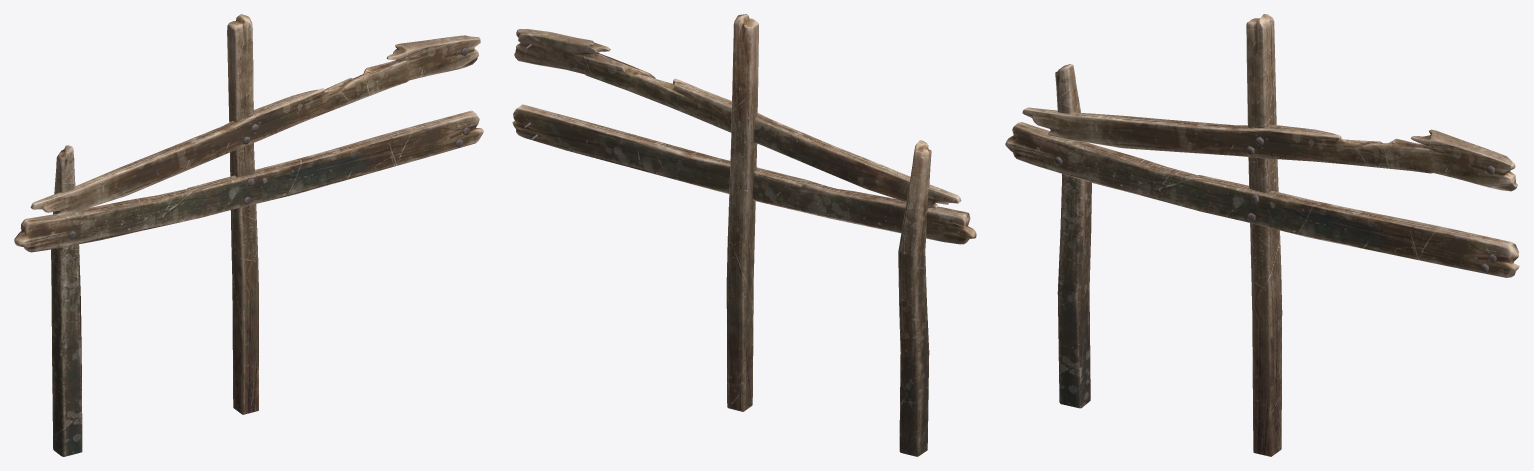
3 renders of one model, left to right at view 1: azimuth 30°, elevation 25°; view 2: azimuth 150°, elevation 25°; view 3: azimuth 330°, elevation 25°, orthographic. The views are drawn at different scales.
Visible parts, largest first — view 1: SM_Wooden_Fence_01v4_LOD0; view 2: SM_Wooden_Fence_01v4_LOD0; view 3: SM_Wooden_Fence_01v4_LOD0.
Part boxes in pixels (x1,y1,x2,y2): SM_Wooden_Fence_01v4_LOD0: (14, 14, 483, 456); SM_Wooden_Fence_01v4_LOD0: (512, 14, 976, 456); SM_Wooden_Fence_01v4_LOD0: (1005, 14, 1519, 456).
Size of the model in its own units: 2.08 by 1.69 by 0.1473.
1 material, 1 textured.
